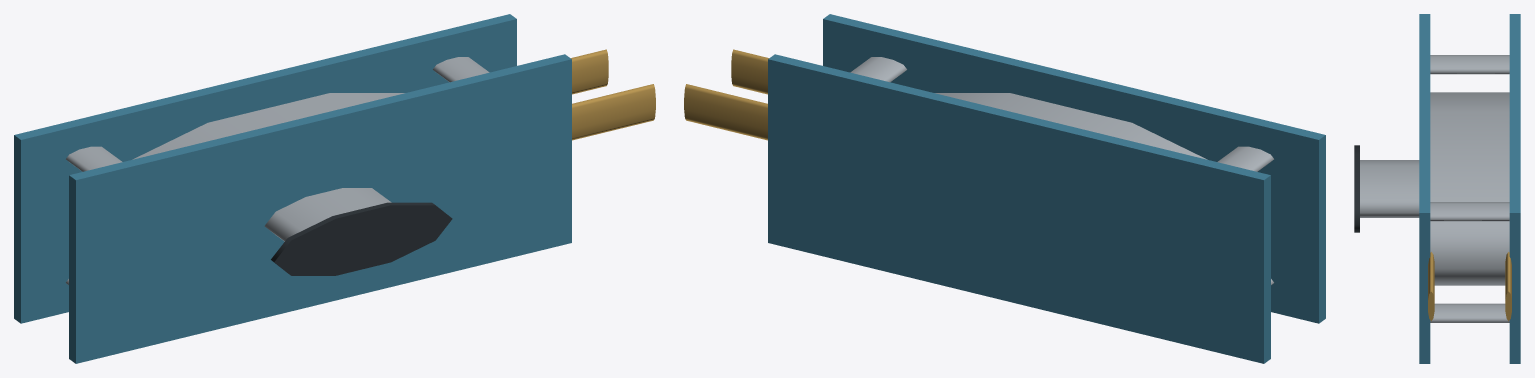
The picture shows the model from 3 angles, left to right: view 1: azimuth 30°, elevation 25°; view 2: azimuth 150°, elevation 25°; view 3: azimuth 270°, elevation 25°; orthographic projection. The views are drawn at different scales.
Visible parts, largest first — view 1: g2, g1, g8, g0, g10, g7, g9, g4, g6; view 2: g1, g2, g0, g9, g10, g4, g6; view 3: g0, g2, g1, g7, g4, g6, g5, g8, g9, g10.
Part boxes in pixels (x1,y1,x2,y2): g2: (69, 54, 571, 363); g1: (14, 14, 516, 323); g8: (271, 202, 452, 275); g0: (132, 93, 404, 159); g10: (572, 84, 655, 140); g7: (264, 188, 391, 241); g9: (571, 49, 608, 94); g4: (66, 146, 122, 171); g6: (433, 57, 489, 82); g1: (768, 54, 1270, 363); g2: (823, 14, 1325, 323); g0: (935, 93, 1207, 159); g9: (684, 84, 767, 140); g10: (731, 49, 768, 94); g4: (1217, 146, 1273, 171); g6: (850, 57, 906, 82); g0: (1430, 92, 1509, 285); g2: (1419, 14, 1430, 363); g1: (1509, 14, 1520, 363); g7: (1360, 160, 1419, 217); g4: (1430, 55, 1509, 74); g6: (1430, 202, 1509, 221); g5: (1430, 303, 1509, 322); g8: (1354, 145, 1359, 232); g9: (1505, 252, 1511, 321); g10: (1428, 252, 1434, 321).
Size of the model in its own units: 1 by 0.3 by 0.3.
